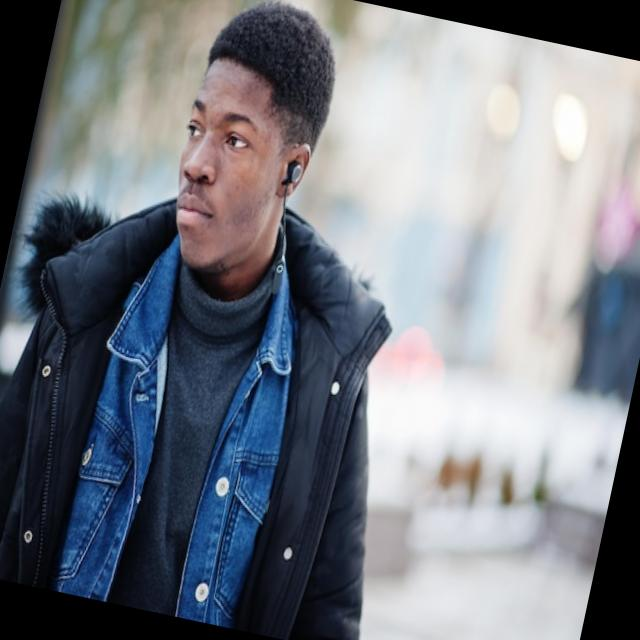Jacket: (0, 171, 440, 640)
